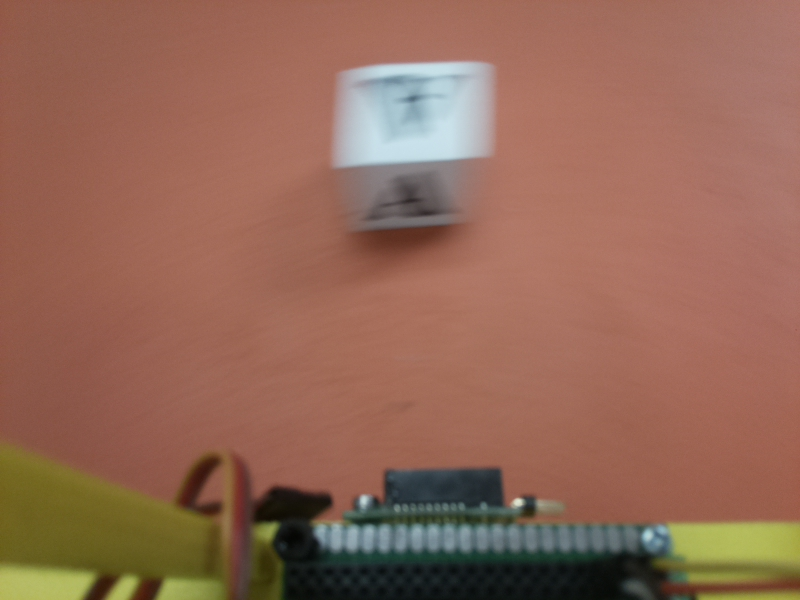blockA: (330, 62, 499, 242)
